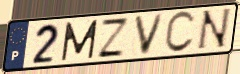2: (30, 20, 62, 67)
C: (162, 9, 197, 55)
M: (60, 18, 100, 63)
N: (194, 7, 233, 53)
V: (132, 13, 166, 58)
Z: (95, 17, 132, 59)
